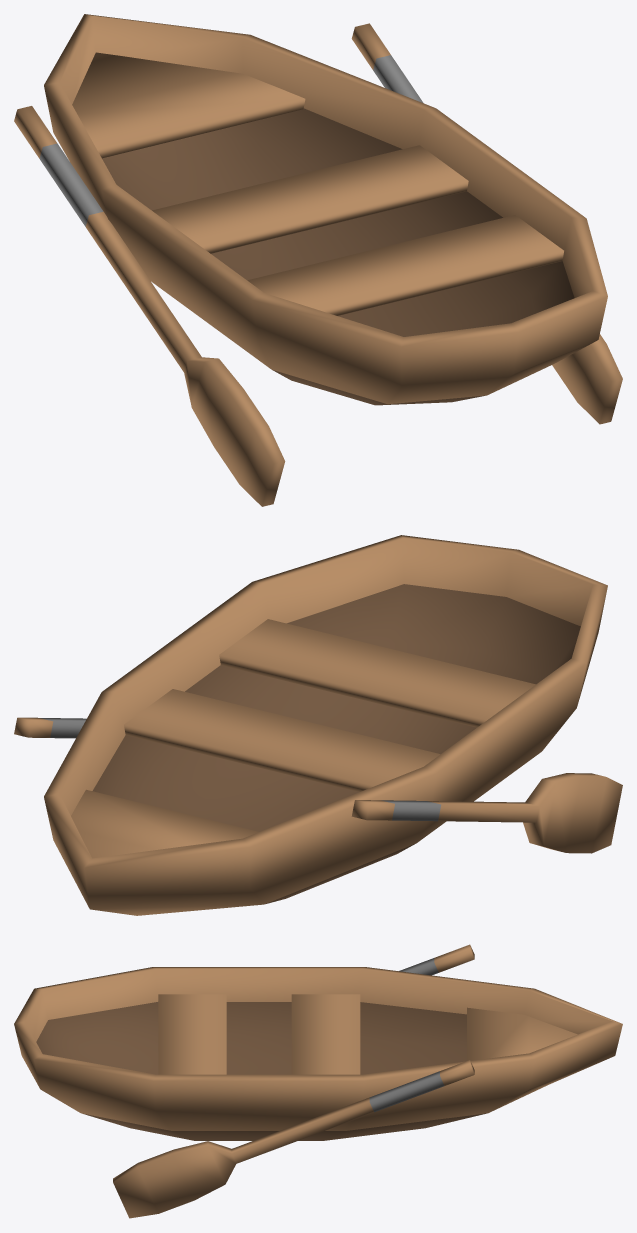
Rendered from Boat1.fbx.
The picture shows the model from 3 angles, top to bottom: view 1: azimuth 30°, elevation 25°; view 2: azimuth 150°, elevation 25°; view 3: azimuth 270°, elevation 25°; orthographic projection. The views are drawn at different scales.
Visible parts, largest first — view 1: Sphere; view 2: Sphere; view 3: Sphere.
Boxes of the visible parts, x1,y1,x2,y2 form: Sphere: [14, 14, 622, 506]; Sphere: [14, 535, 622, 915]; Sphere: [14, 944, 622, 1218].
Size of the model in its own units: 1070 by 501 by 299.
